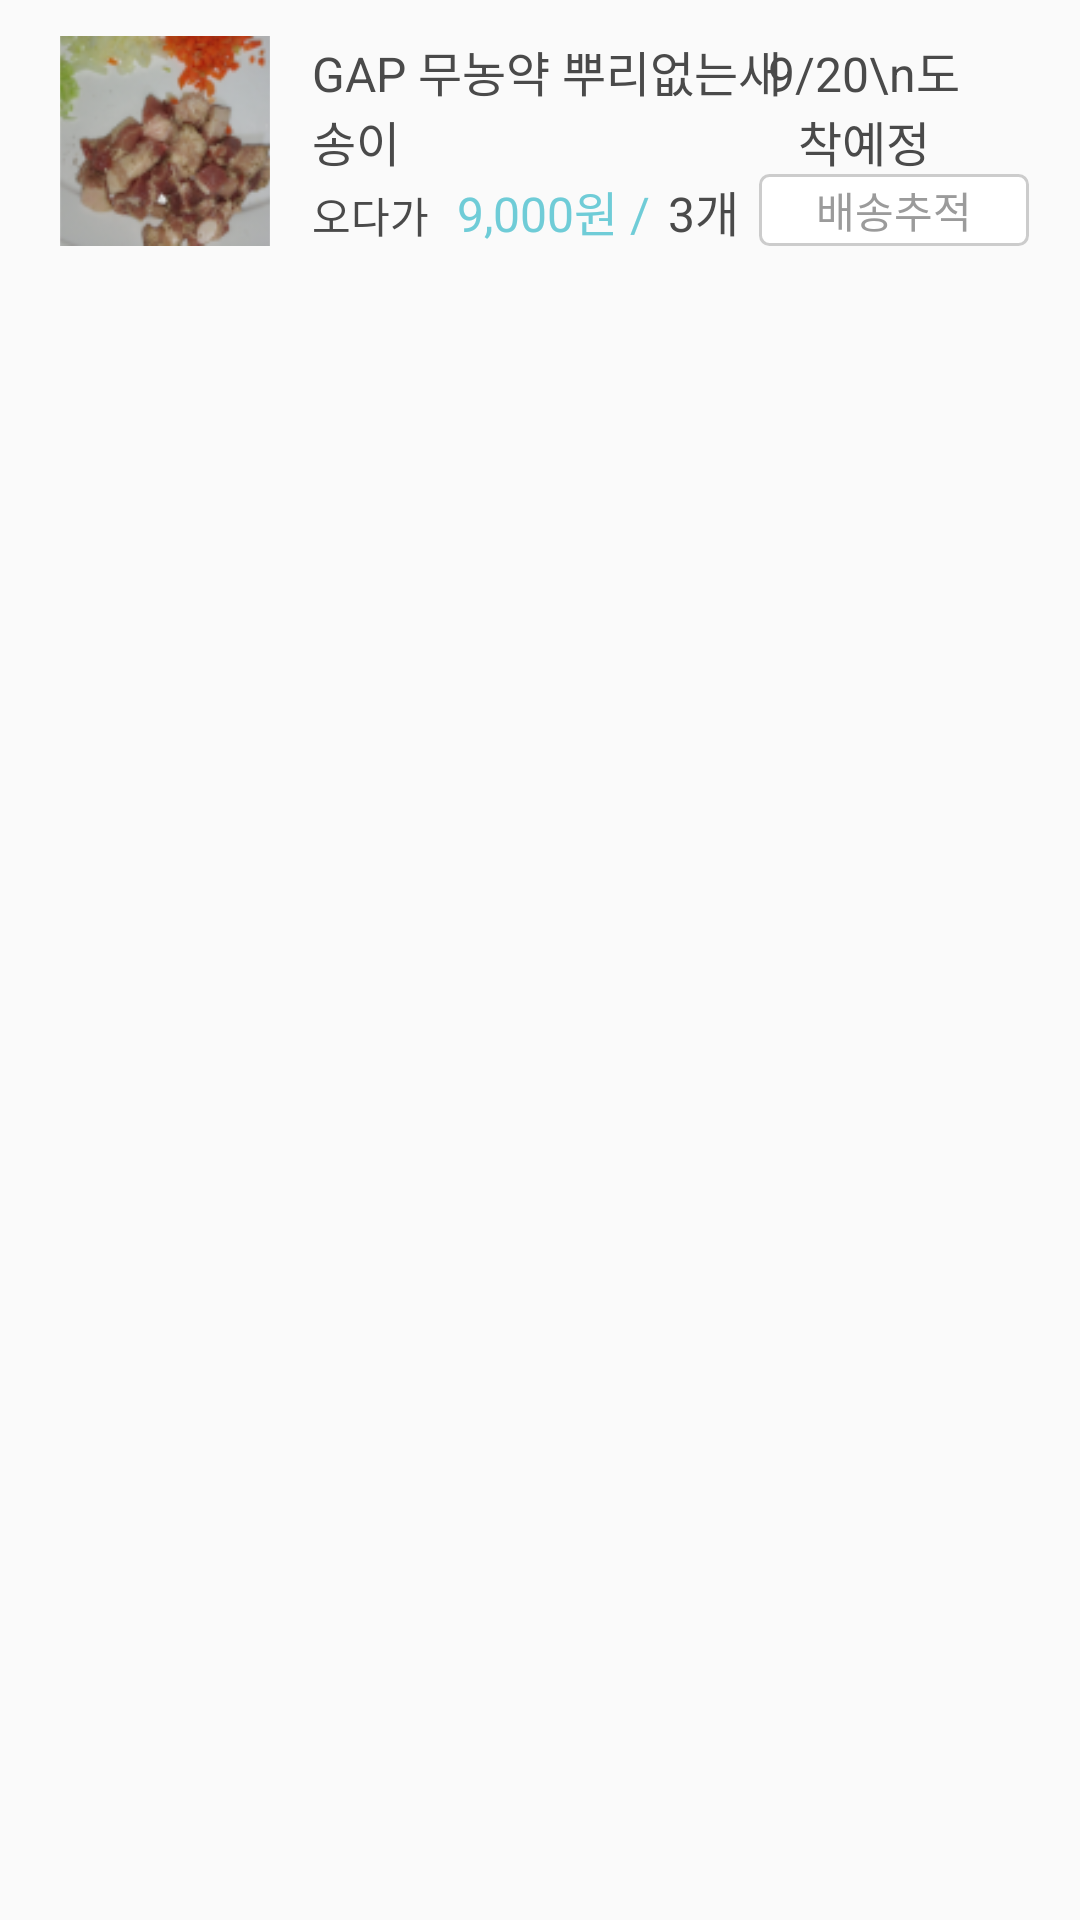

Screen size 1080px×1920px. Icon name, then its box in pixels as (x1, y1, x2, y2):
tmp thumnail: (60, 36, 270, 246)
